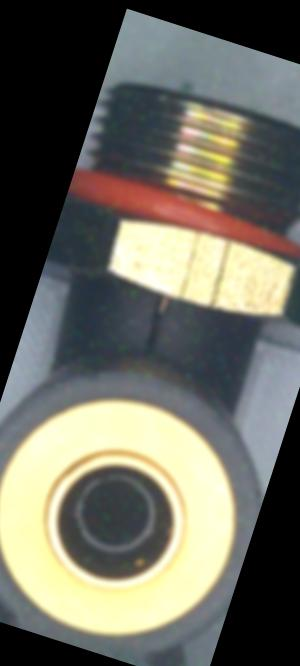craze: (137, 291, 176, 360)
